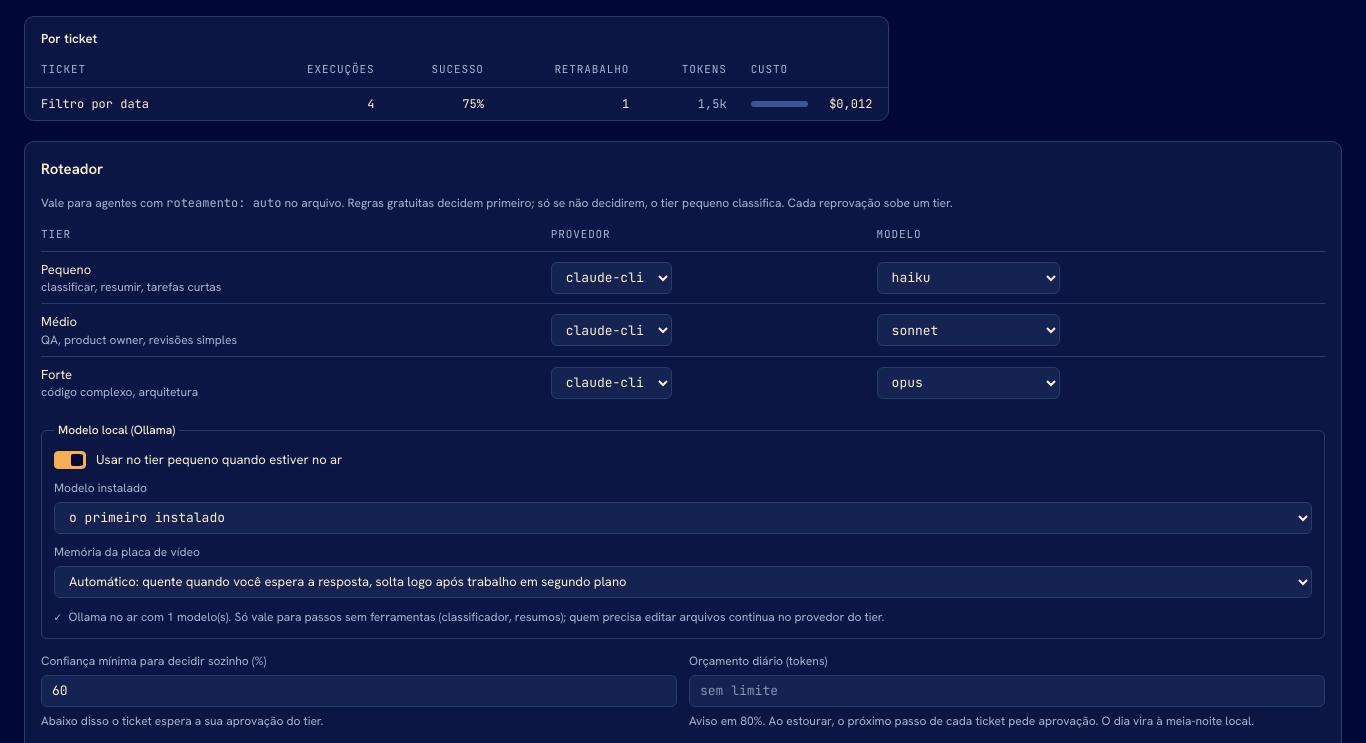
Test: MetricsPanel › saves the tiers, the confidence threshold and the daily budget
(page scrolled)
Select "opus" in the 6th dropdown named "Modelo do tier Forte". click: x=968, y=383
box: [877,367,1060,399]
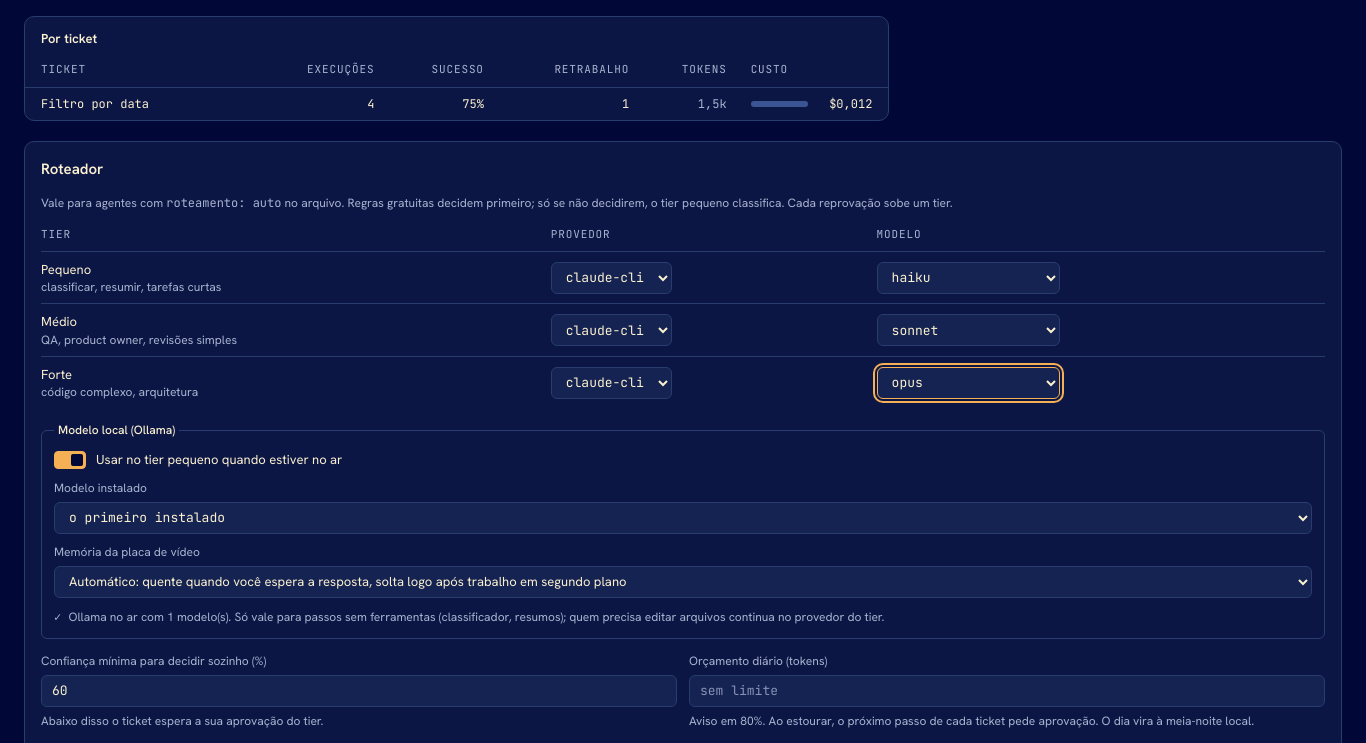
Replace the text in the number field labelled "Confiança mínima" with "70". click: x=359, y=691
box: [41,675,677,707]
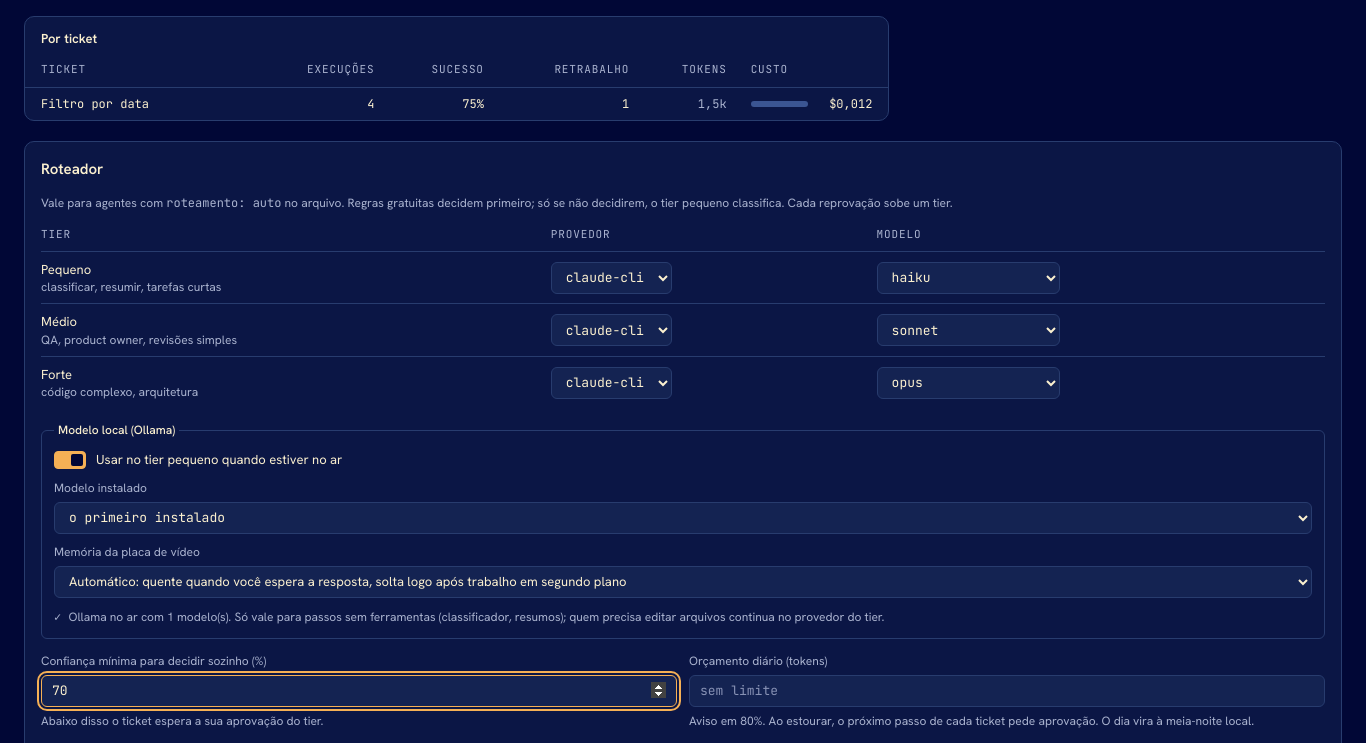
Type "50.000" into the field labelled "Orçamento diário". click: x=1007, y=691
box: [689,675,1325,707]
(page scrolled)
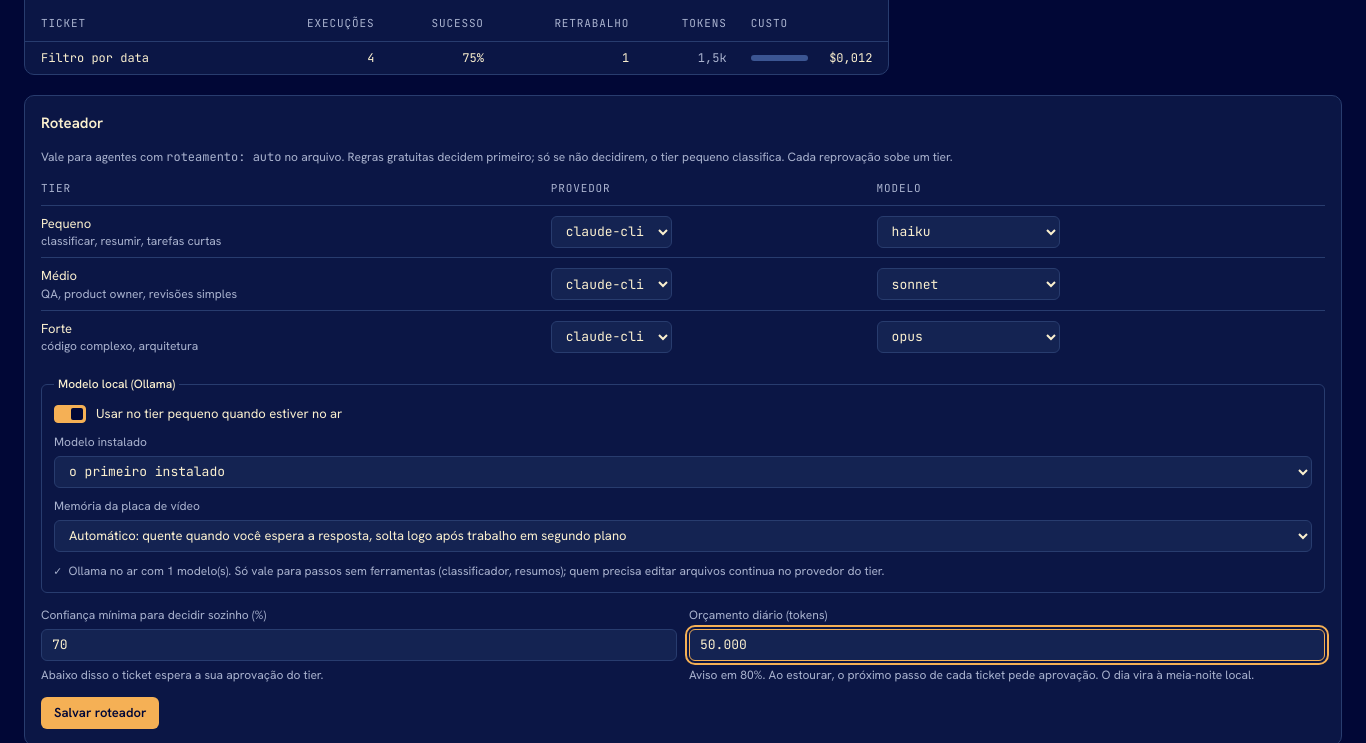
Click the button "Salvar roteador". click: x=100, y=713
box: [41,697,159,729]
(page scrolled)
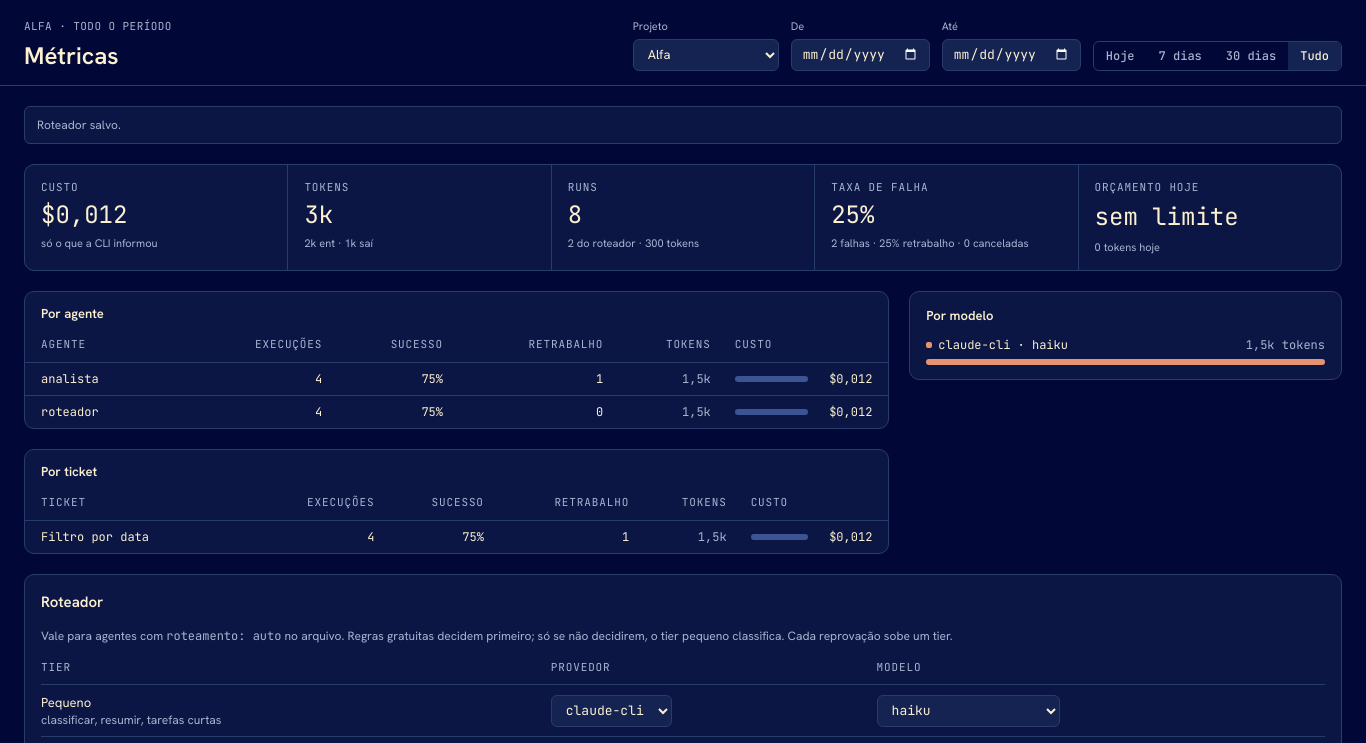
Expected: the text "Roteador salvo." is shown, [24,106,1342,144]
